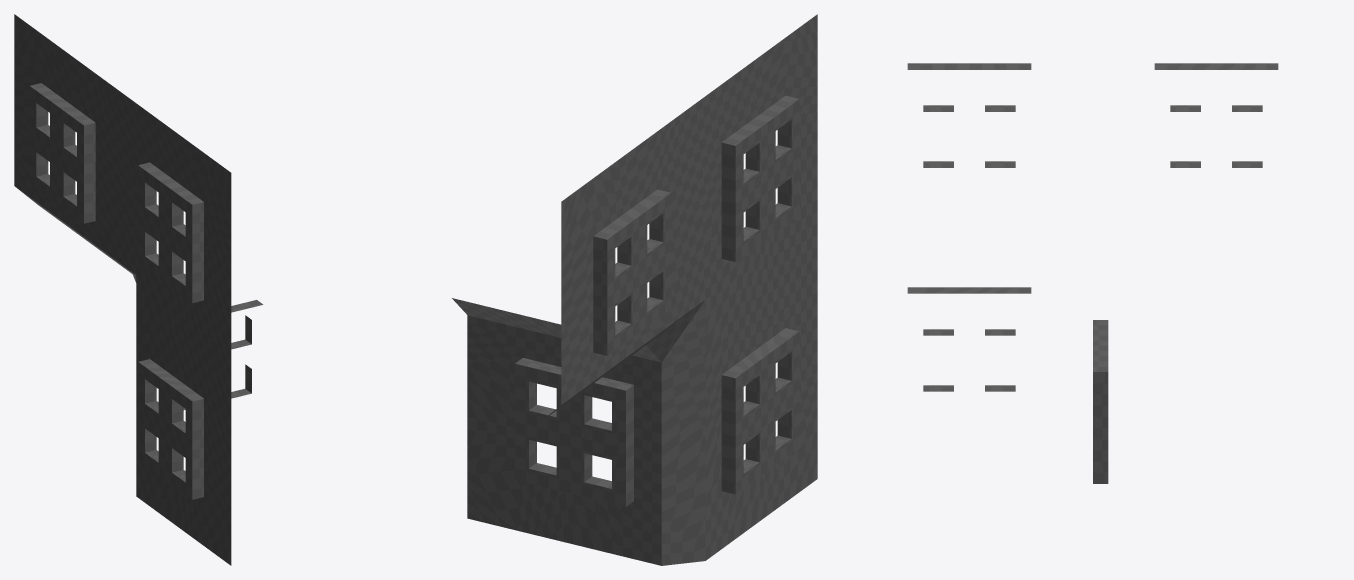
3 views of the same model, side by side, from view 1: azimuth 30°, elevation 25°; view 2: azimuth 150°, elevation 25°; view 3: azimuth 270°, elevation 25° (orthographic). The views are drawn at different scales.
Visible parts, largest first — view 1: 4; view 2: 4; view 3: 4.
Part boxes in pixels (bbox=[...]): 4: bbox=[14, 14, 263, 565]; 4: bbox=[452, 14, 817, 565]; 4: bbox=[907, 63, 1278, 483].
Size of the model in its own units: 2.12 by 4 by 4.
Materials: 2 (2 with a texture image).
